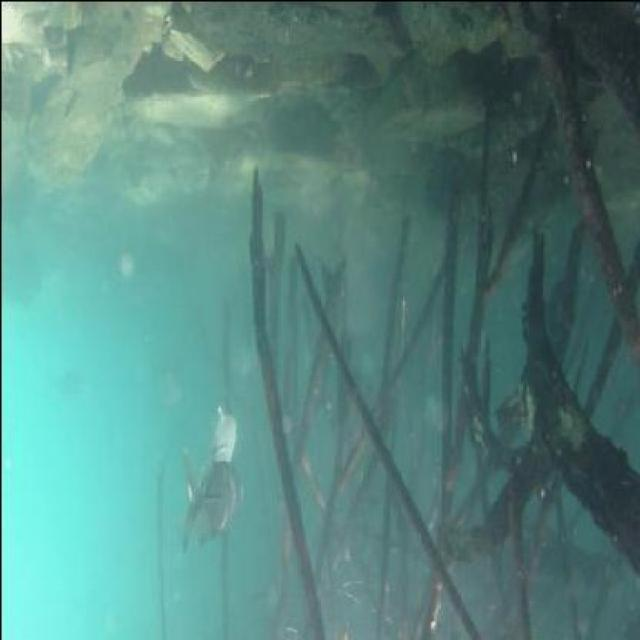Caranx_sexfasciatus_juvenile: (177, 449, 243, 549), (204, 398, 238, 469)
